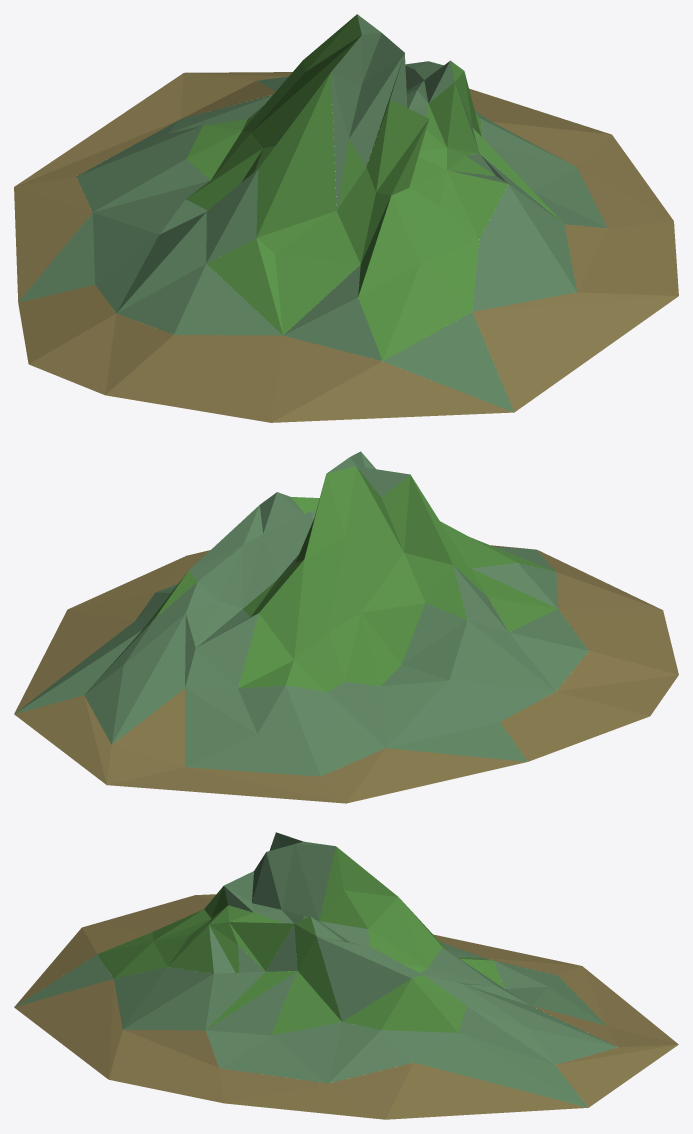
Rendered from fansipan.glb.
The picture shows the model from 3 angles, top to bottom: view 1: azimuth 30°, elevation 25°; view 2: azimuth 150°, elevation 25°; view 3: azimuth 270°, elevation 25°; orthographic projection. The views are drawn at different scales.
Parts seen in each view (by area): view 1: Landscape; view 2: Landscape; view 3: Landscape.
Part boxes in pixels (left/top/right/bottom): Landscape: left=14, top=14, right=678, bottom=422; Landscape: left=14, top=451, right=678, bottom=803; Landscape: left=14, top=832, right=678, bottom=1119.
Bounding box in the file's own units: 3.08 × 1.14 × 3.53.
